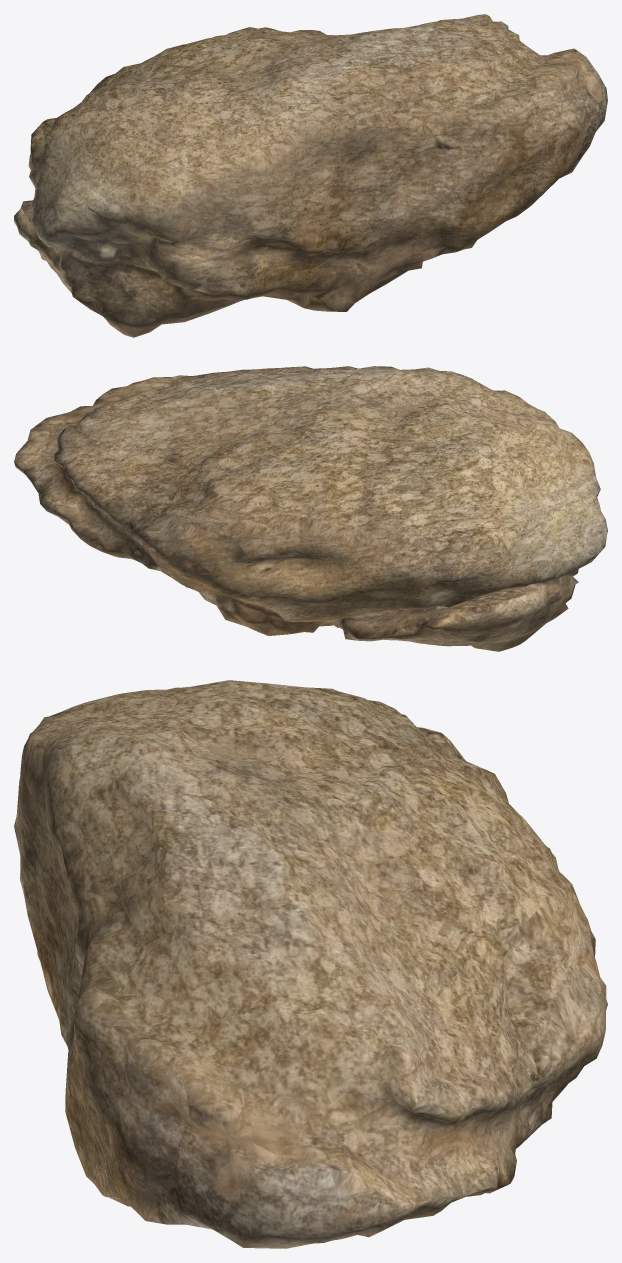
Rendered from namaqualand_boulder_05.glb.
3 renders of one model, top to bottom at view 1: azimuth 30°, elevation 25°; view 2: azimuth 150°, elevation 25°; view 3: azimuth 270°, elevation 25°, orthographic. The views are drawn at different scales.
Parts seen in each view (by area): view 1: namaqualand_boulder_05; view 2: namaqualand_boulder_05; view 3: namaqualand_boulder_05.
Part boxes in pixels (x1,y1,x2,y2): namaqualand_boulder_05: (14, 14, 607, 337); namaqualand_boulder_05: (14, 366, 607, 651); namaqualand_boulder_05: (14, 680, 607, 1248).
Bounding box in the file's own units: 1.36 × 0.5365 × 0.7455.
Materials: 1 (1 with a texture image).
